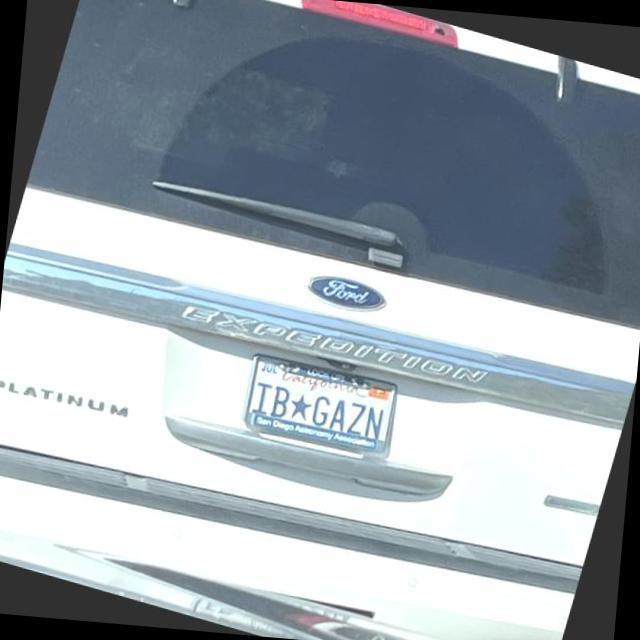license-plate: (253, 341, 415, 487)
